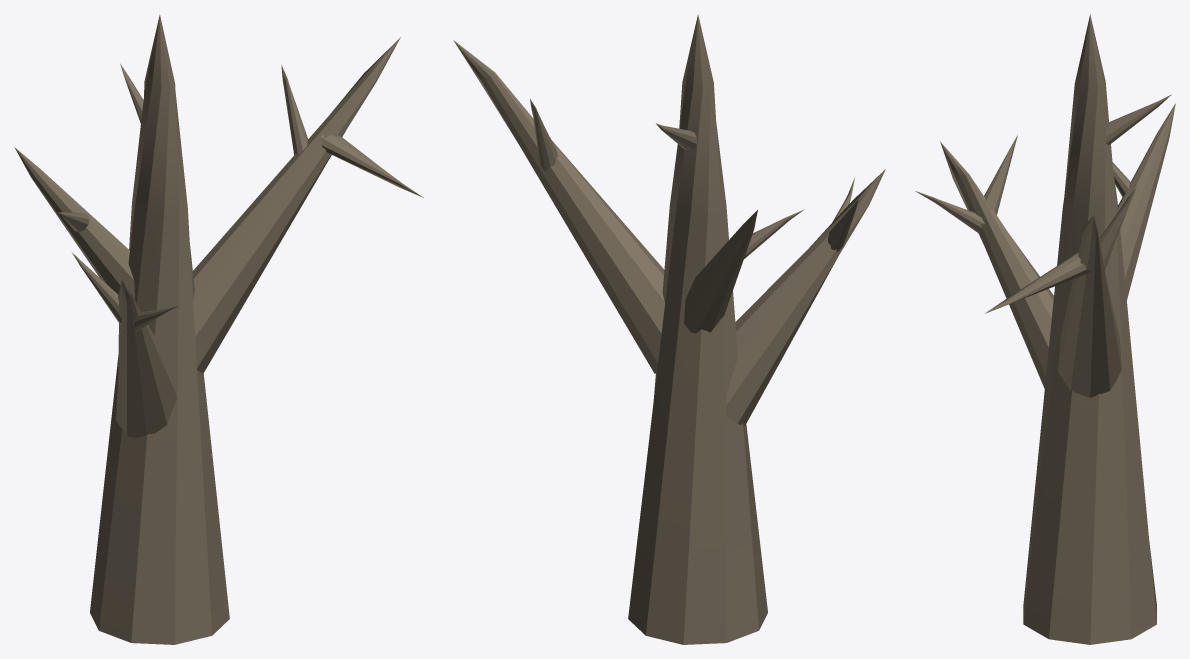
File: Arbol Muerto.fbx
3 renders of one model, left to right at view 1: azimuth 30°, elevation 25°; view 2: azimuth 150°, elevation 25°; view 3: azimuth 270°, elevation 25°, orthographic.
Visible parts, largest first — view 1: polySurface435; view 2: polySurface435; view 3: polySurface435.
Part boxes in pixels (x1=…): polySurface435: x1=14, y1=14, x2=423, y2=644; polySurface435: x1=453, y1=14, x2=885, y2=644; polySurface435: x1=915, y1=14, x2=1175, y2=644.
Bounding box in the file's own units: 2.55 × 3.99 × 1.57.
